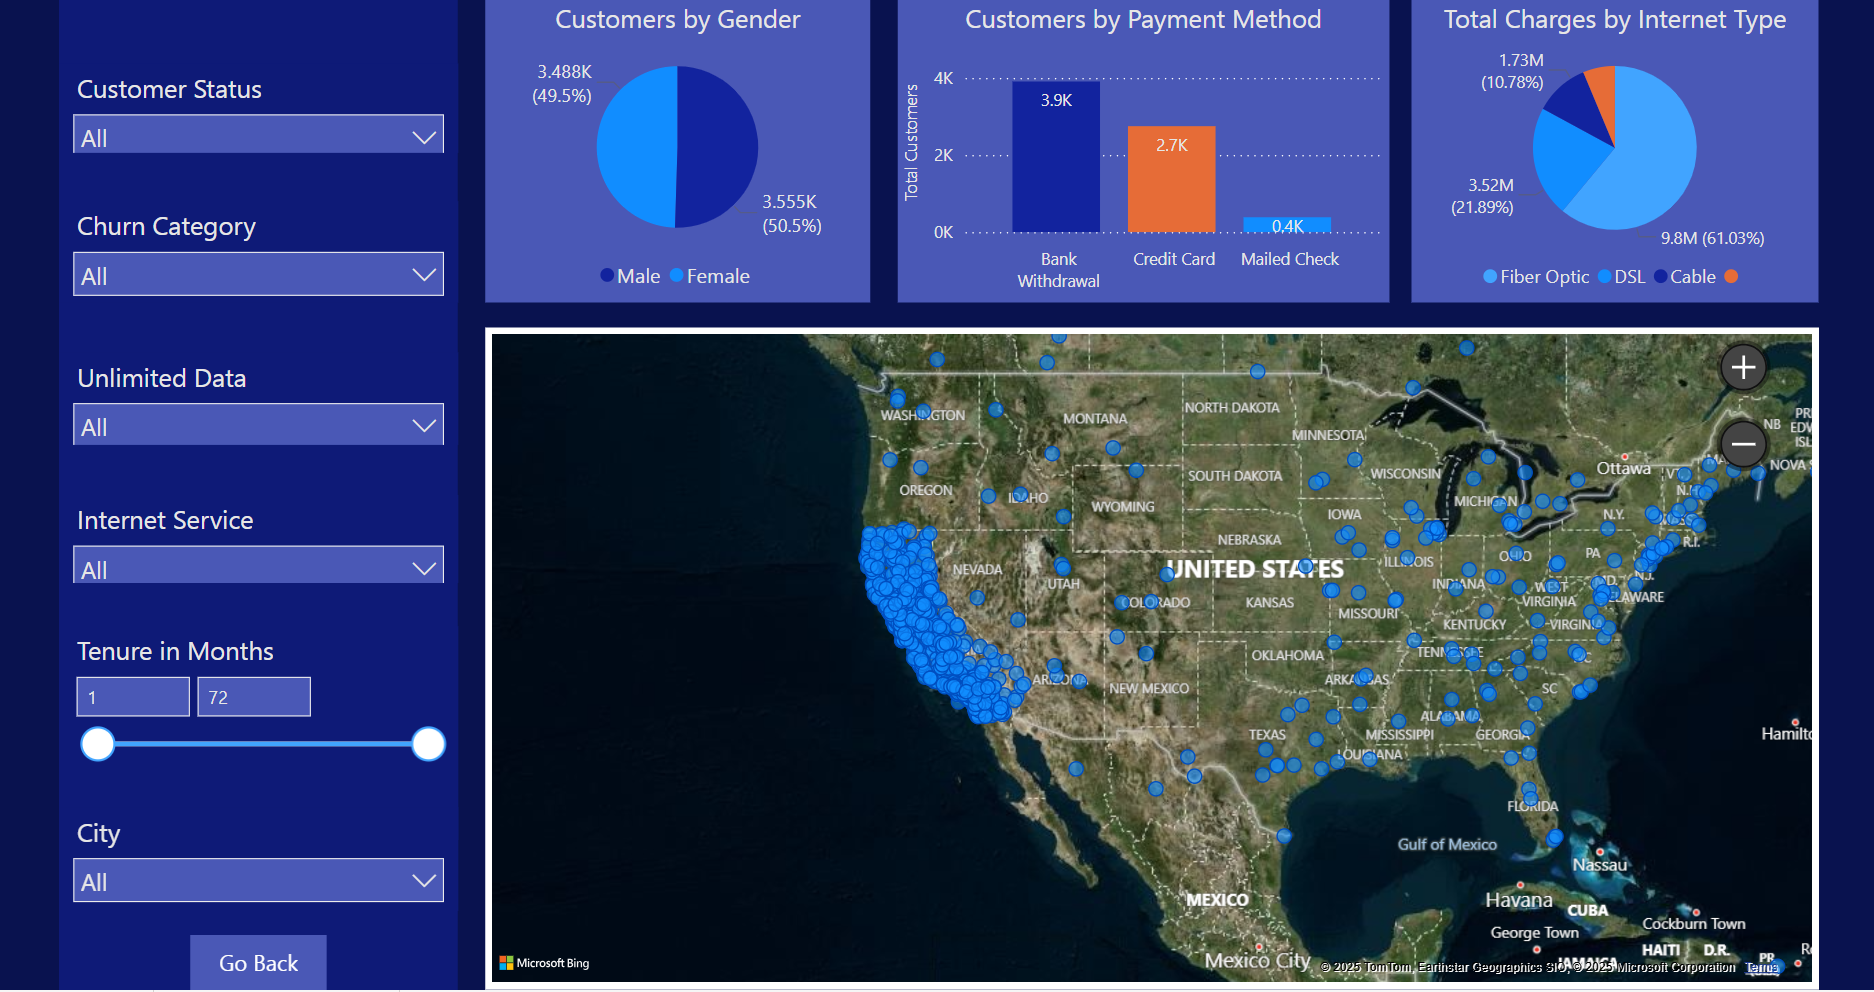

The page's visual inventory and layout, read from the dashboard file:
{"tool":"powerbi","page":{"name":"Page 2","canvas":[1280,720],"ordinal":1},"visuals":[{"type":"shape","box":[0,0,290,720],"z":0,"group":"g1"},{"type":"pieChart","title":"Customers by Gender","fields":{"Category":["Churn_Data.Gender"],"Y":["Measures (2).Total Customers"]},"box":[310,0,280,220],"z":0},{"type":"columnChart","title":"Customers by Payment Method","fields":{"Category":["Churn_Data.Payment Method"],"Y":["Measures (2).Total Customers"]},"box":[610,0,357.5,220],"z":1000},{"type":"slicer","fields":{"Values":["Churn_Data.Internet Service"]},"box":[0,360,290,63.8],"z":1000,"group":"g2"},{"type":"pieChart","title":"Total Charges by Internet Type","fields":{"Y":["Sum(Churn_Data.Total Charges)"],"Category":["Churn_Data.Internet Type"]},"box":[983.8,0,296.2,220],"z":2000},{"type":"group","id":"g1","title":"Group 2","box":[0,0,290,720],"z":3000},{"type":"slicer","fields":{"Values":["Churn_Data.Tenure in Months"]},"box":[0,455,290,155],"z":3000,"group":"g2"},{"type":"slicer","fields":{"Values":["Churn_Data.City"]},"box":[0,587.4,290,75],"z":3500,"group":"g2"},{"type":"map","fields":{"Category":["Churn_Data.City"]},"box":[310,238.6,970,481.4],"z":4000},{"type":"slicer","fields":{"Values":["Churn_Data.Unlimited Data"]},"box":[0,256.2,290,67.5],"z":4000,"group":"g2"},{"type":"actionButton","box":[95.8,680.4,99.5,39.8],"z":4001},{"type":"slicer","fields":{"Values":["Churn_Data.Churn Category"]},"box":[0,146.2,290,73.8],"z":7000,"group":"g2"},{"type":"slicer","fields":{"Values":["Churn_Data.Customer Status"]},"box":[0,46.2,290,65],"z":10000,"group":"g2"},{"type":"group","id":"g2","title":"Group 1","box":[0,46.2,290,616.2],"z":10001,"group":"g1"}]}

Visuals, with their boxes on the page's 1280x720 design canvas (x1, y1, x2, y2). These are canvas units, not pixel positions in the 1874x992 screenshot, which may show the page scaled, cropped or inside an application window:
shape: [0,0,290,720]
"Customers by Gender" pieChart: [310,0,590,220]
"Customers by Payment Method" columnChart: [610,0,968,220]
slicer - Churn_Data.Internet Service: [0,360,290,424]
"Total Charges by Internet Type" pieChart: [984,0,1280,220]
"Group 2" group: [0,0,290,720]
slicer - Churn_Data.Tenure in Months: [0,455,290,610]
slicer - Churn_Data.City: [0,587,290,662]
map - Churn_Data.City: [310,239,1280,720]
slicer - Churn_Data.Unlimited Data: [0,256,290,324]
actionButton: [96,680,195,720]
slicer - Churn_Data.Churn Category: [0,146,290,220]
slicer - Churn_Data.Customer Status: [0,46,290,111]
"Group 1" group: [0,46,290,662]
